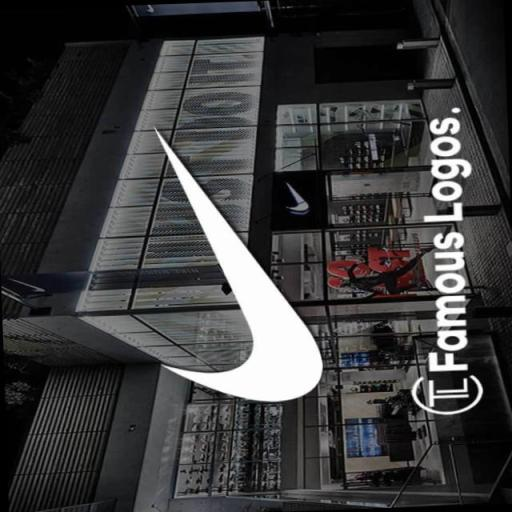Nike: (142, 108, 328, 406)
